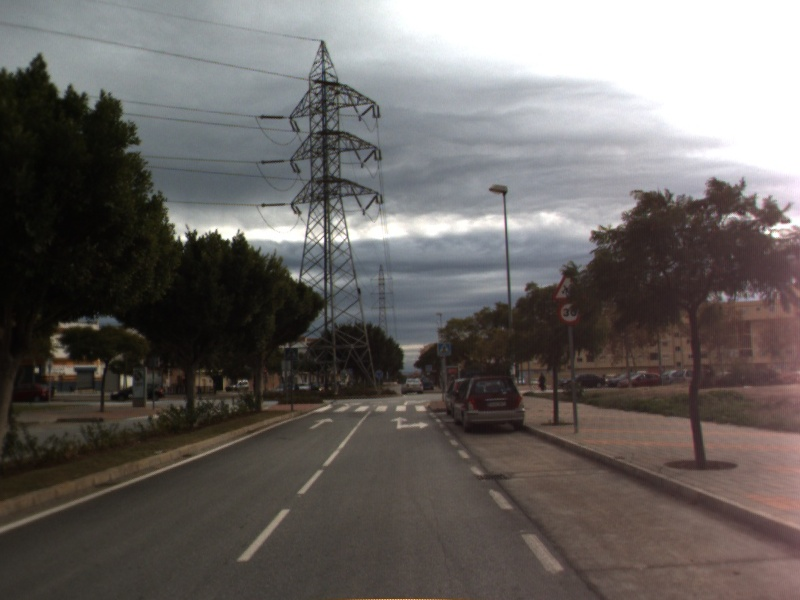STRAIGHT: (307, 415, 336, 431)
STRAIGHT_RIGHT: (389, 414, 431, 431)
